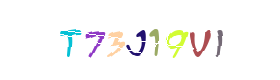1: (100, 0, 180, 80)
3: (99, 0, 179, 80)
7: (62, 0, 142, 80)
9: (137, 0, 217, 80)
I: (160, 0, 240, 80)
J: (99, 0, 179, 80)
T: (30, 0, 110, 80)
V: (146, 0, 226, 80)
